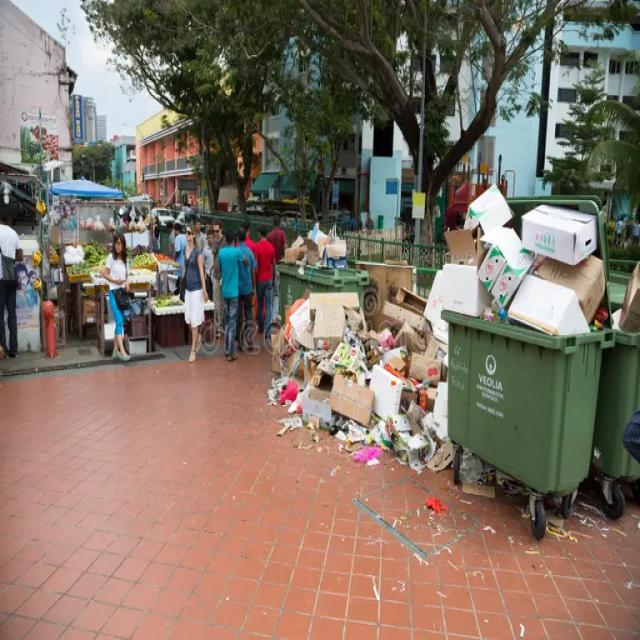bin_full: (453, 202, 607, 524), (604, 280, 640, 502), (276, 221, 316, 306), (316, 240, 366, 297)
bulk_waste: (505, 265, 589, 343), (521, 194, 604, 270), (382, 377, 458, 459), (362, 328, 448, 394), (283, 294, 368, 356), (530, 244, 608, 300), (475, 226, 526, 300), (440, 256, 492, 328), (286, 357, 342, 420), (338, 376, 396, 430), (292, 230, 352, 280), (380, 286, 437, 334), (447, 213, 491, 272), (371, 256, 418, 304), (474, 190, 509, 252)
